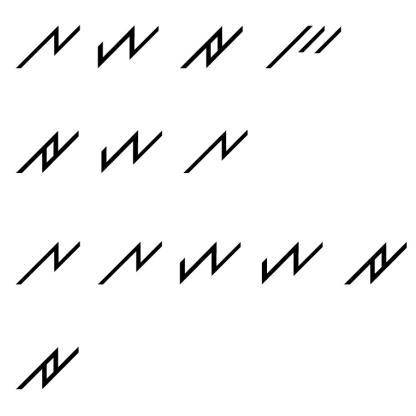la: (182, 124, 253, 181), (98, 233, 165, 293), (12, 236, 83, 291), (10, 18, 82, 71)
ra: (176, 20, 249, 80), (10, 120, 80, 179), (341, 235, 413, 291), (10, 342, 83, 392)
ya: (88, 18, 160, 78), (175, 233, 244, 294), (253, 236, 325, 290), (96, 122, 166, 177)
